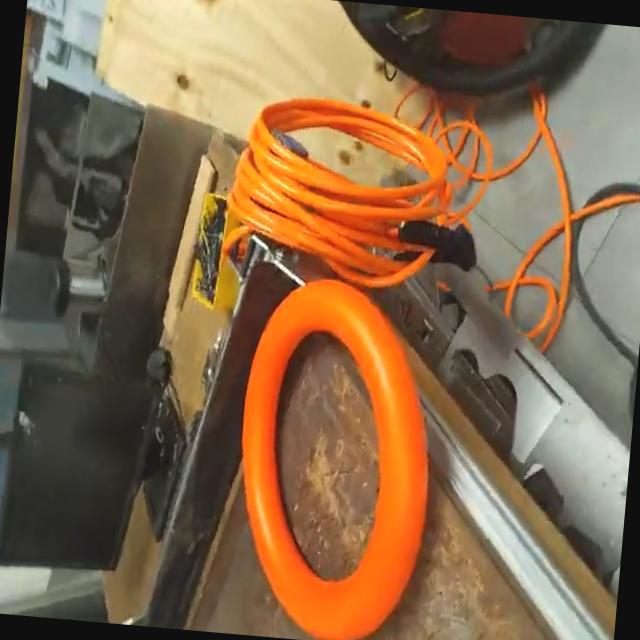note: (221, 269, 445, 640)
